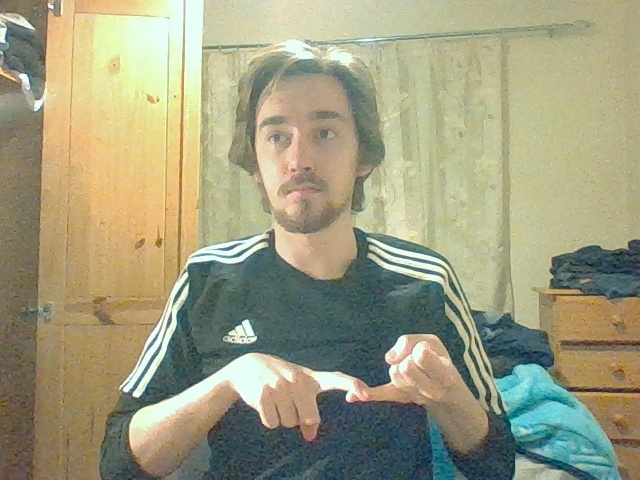step: (245, 333, 450, 441)
